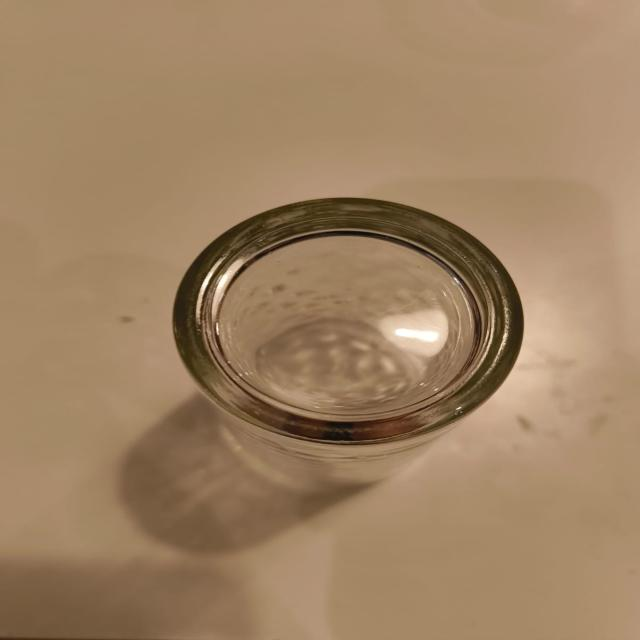ok g2: (172, 197, 526, 462)
